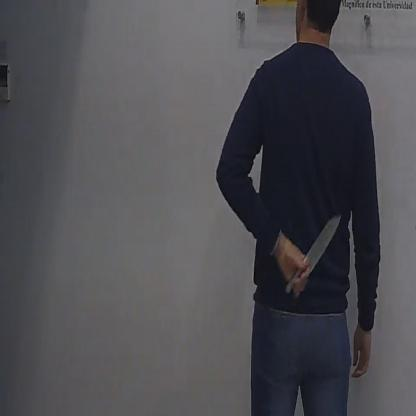knife: (282, 204, 345, 297)
